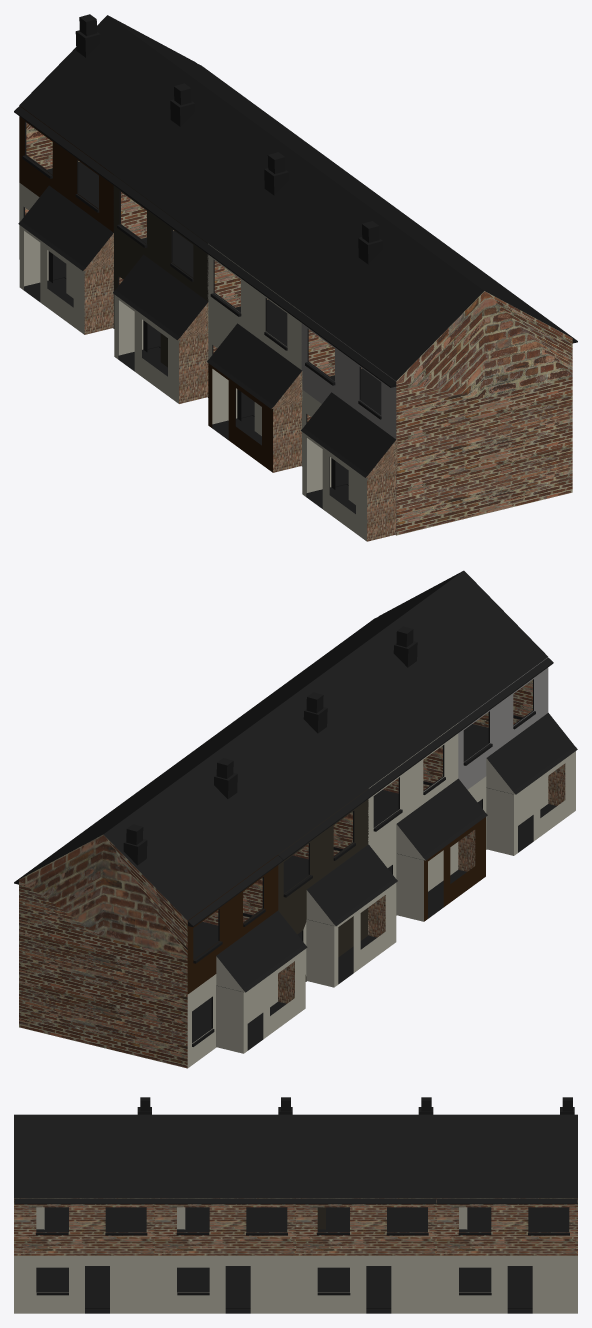
The model's file is 4HOUSEGROUP.glb.
3 renders of one model, top to bottom at view 1: azimuth 30°, elevation 25°; view 2: azimuth 150°, elevation 25°; view 3: azimuth 270°, elevation 25°, orthographic. The views are drawn at different scales.
Visible parts, largest first — view 1: Cube.002; view 2: Cube.002; view 3: Cube.002.
Part boxes in pixels (left/top/right/bottom): Cube.002: left=14, top=14, right=577, bottom=541; Cube.002: left=14, top=570, right=577, bottom=1068; Cube.002: left=14, top=1097, right=577, bottom=1313.
Size of the model in its own units: 24.05 by 25.02 by 73.84.
16 materials, 4 textured.
